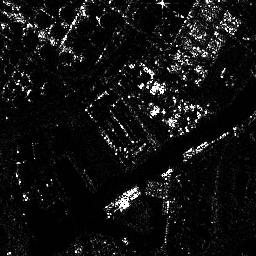ship: (104, 187, 139, 209)
